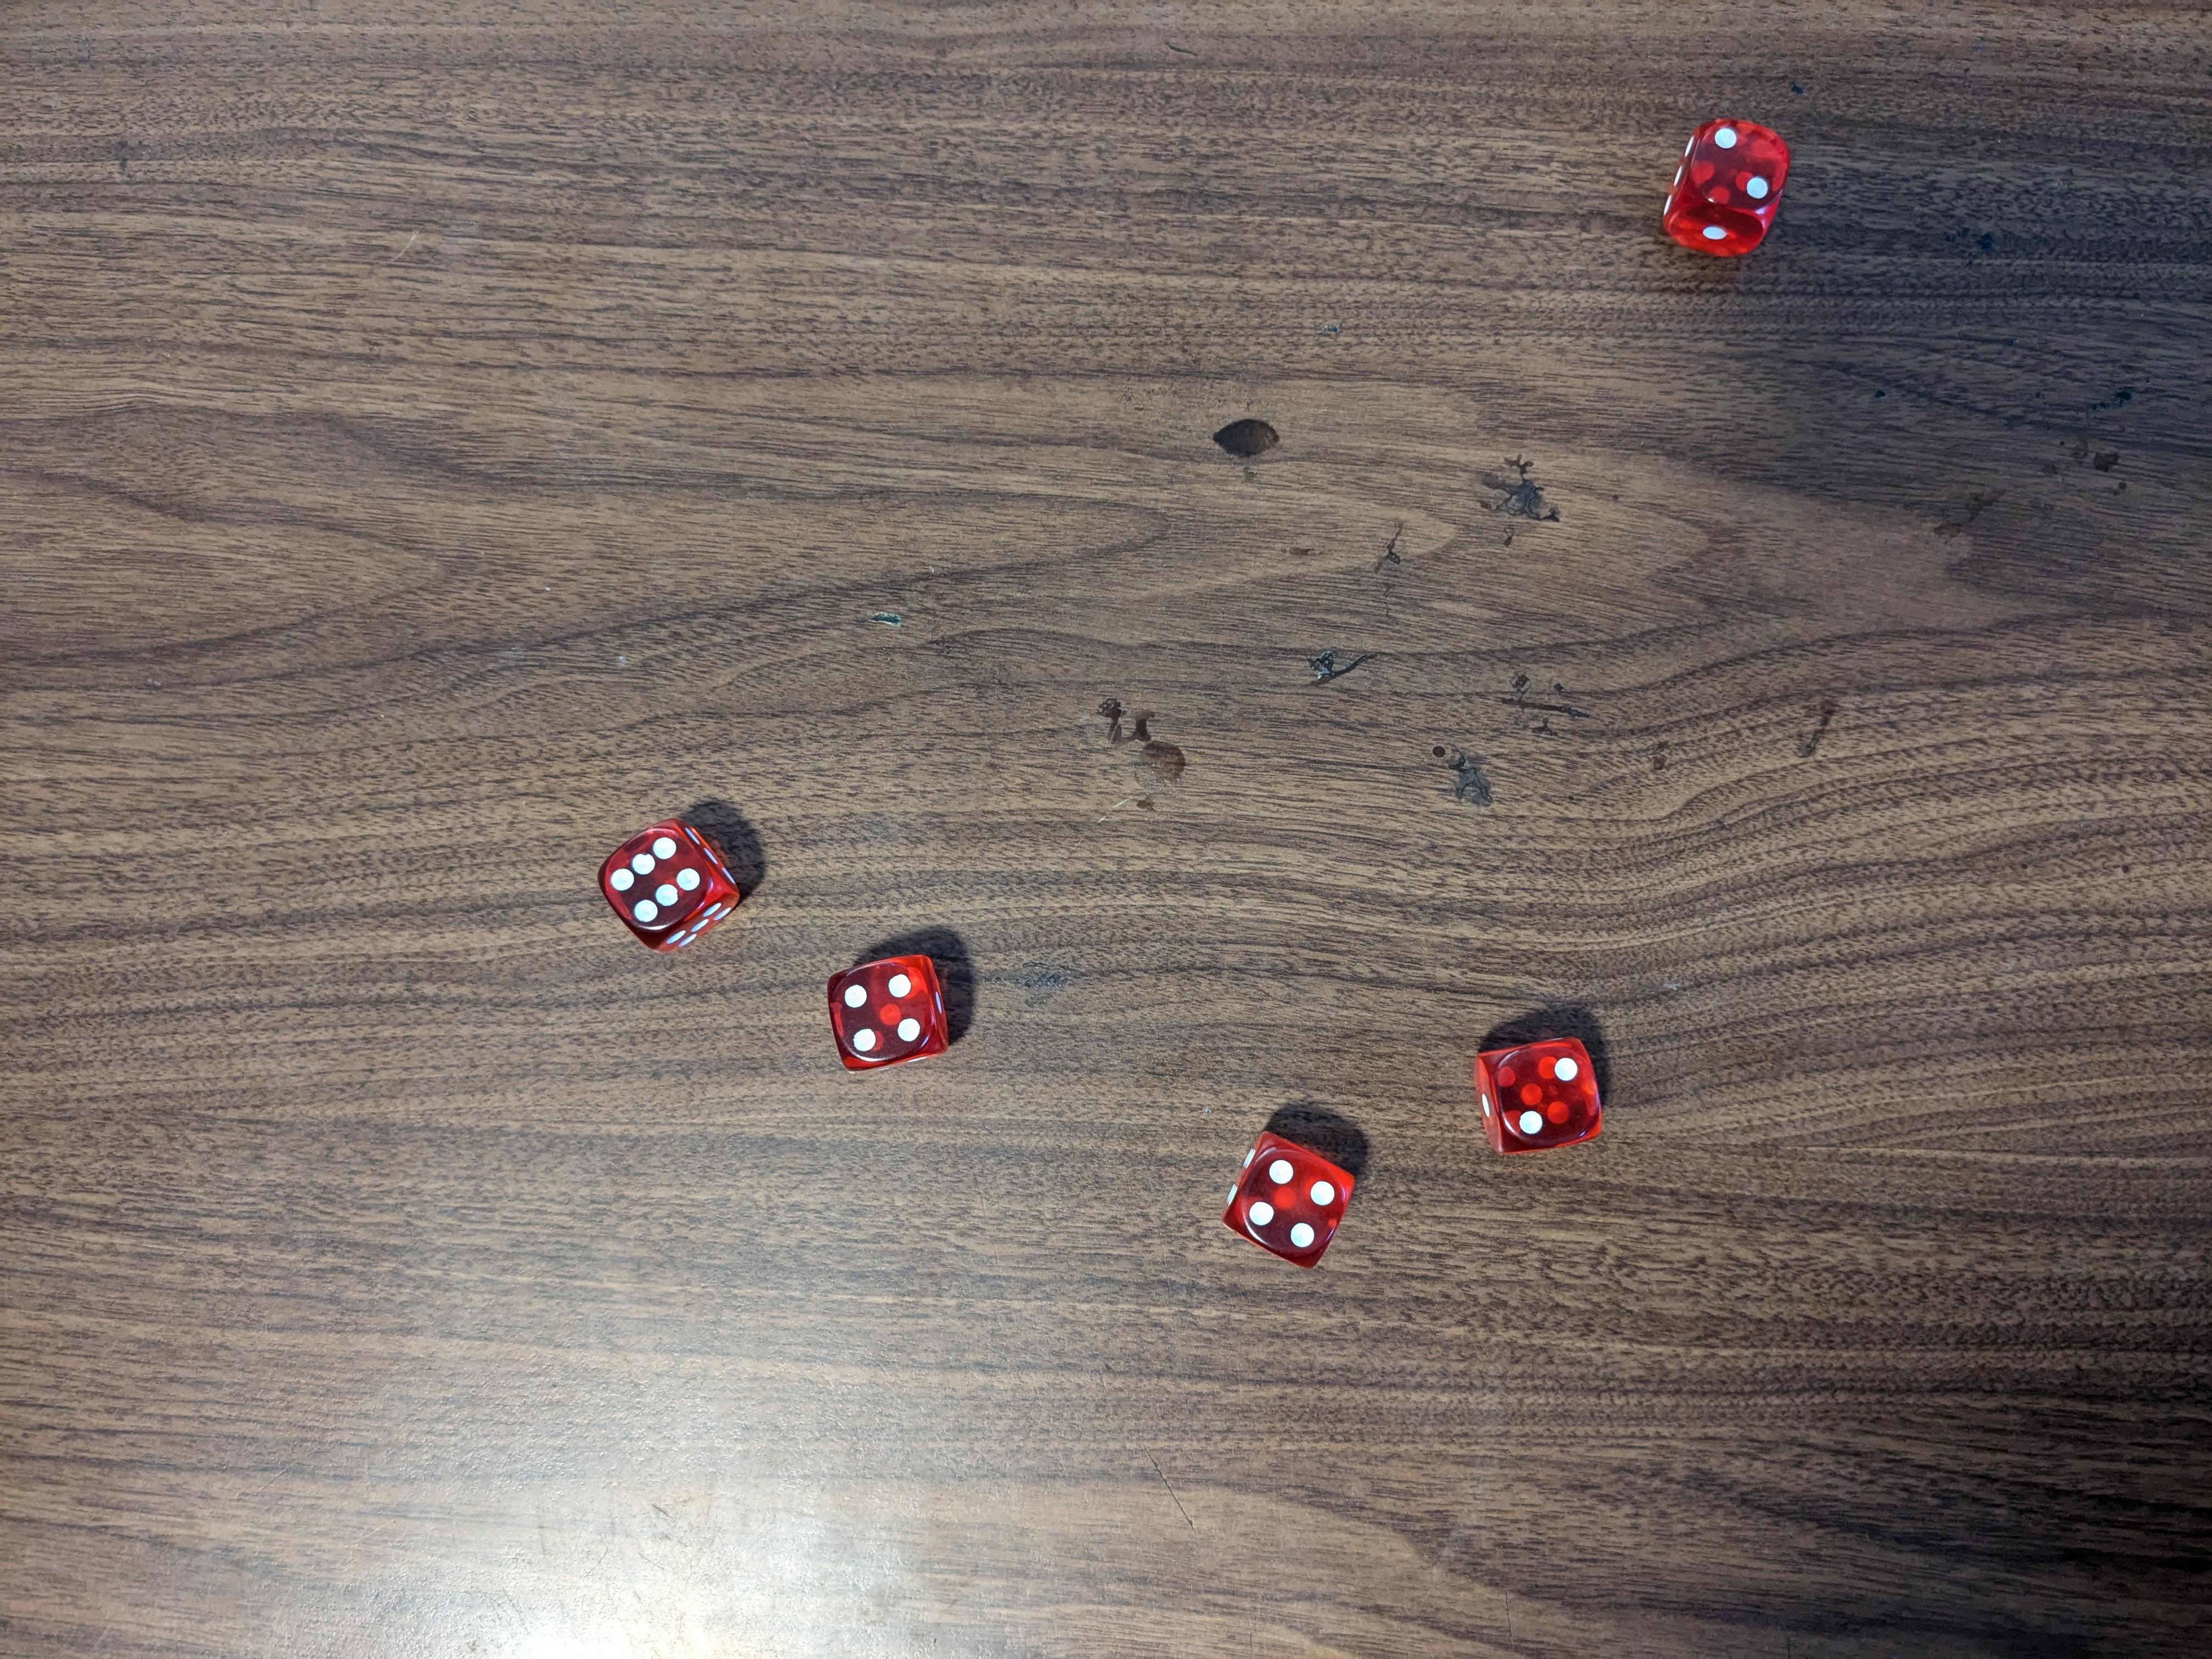four: (1223, 1133, 1352, 1269), (822, 948, 951, 1072)
six: (603, 814, 744, 964)
two: (1665, 119, 1801, 267), (1467, 1039, 1613, 1159)
